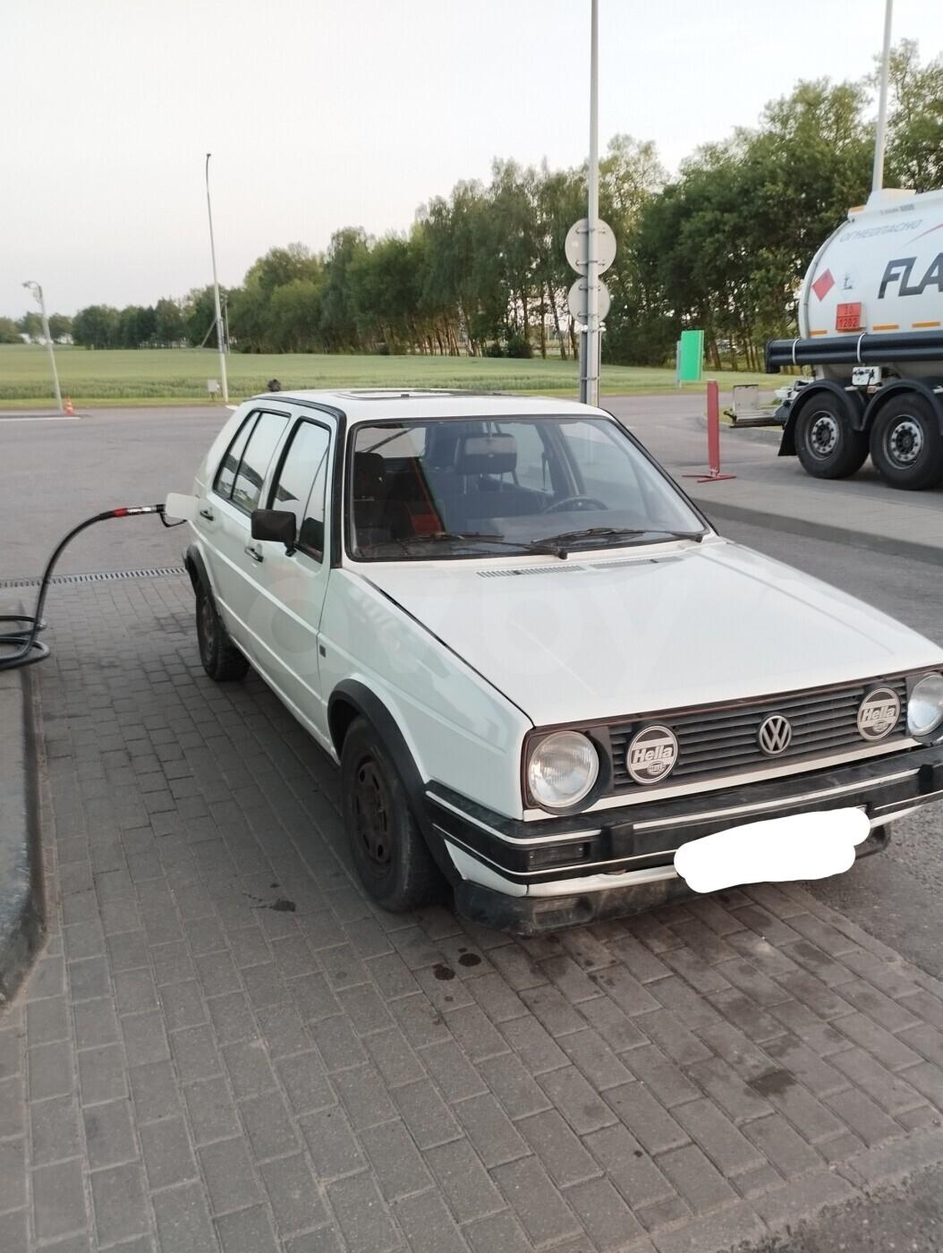Golf_1983-1992: (179, 392, 943, 929)
